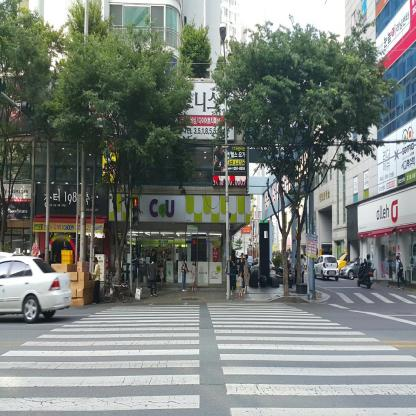Red: (132, 198, 139, 226)
